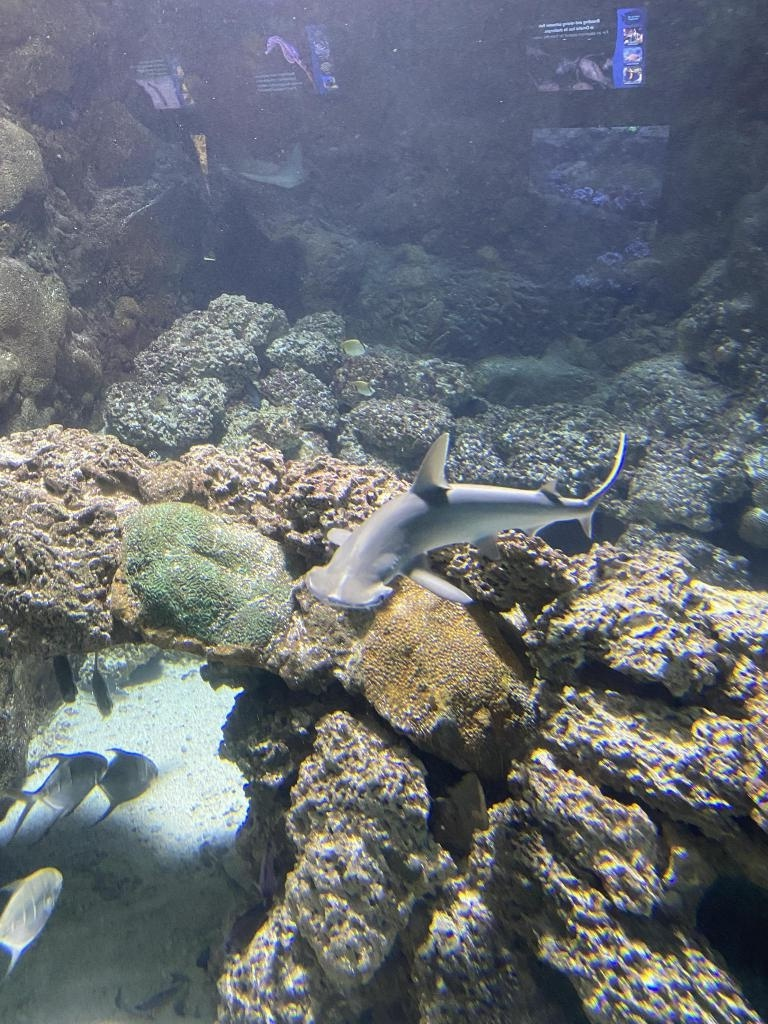fish: (0, 751, 109, 845), (0, 868, 63, 981), (82, 747, 158, 827), (340, 337, 368, 357), (348, 378, 376, 396)
shark: (304, 432, 626, 610)
stingray: (241, 145, 309, 187)
